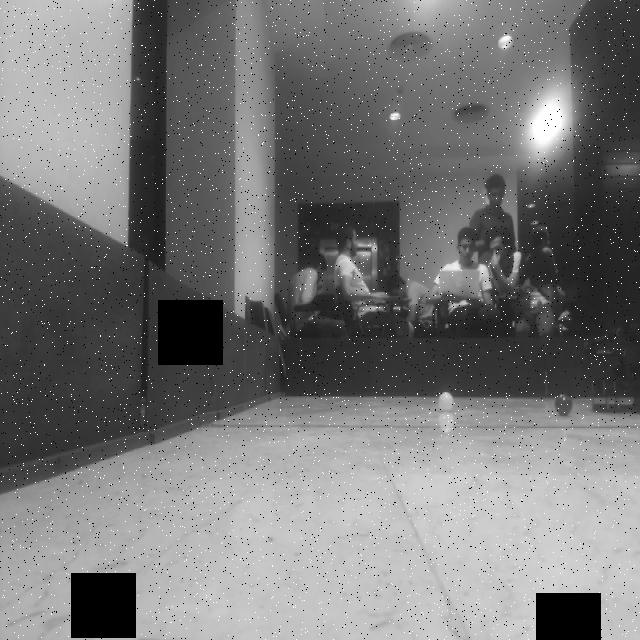ball: (550, 392, 579, 419), (434, 389, 458, 415)
